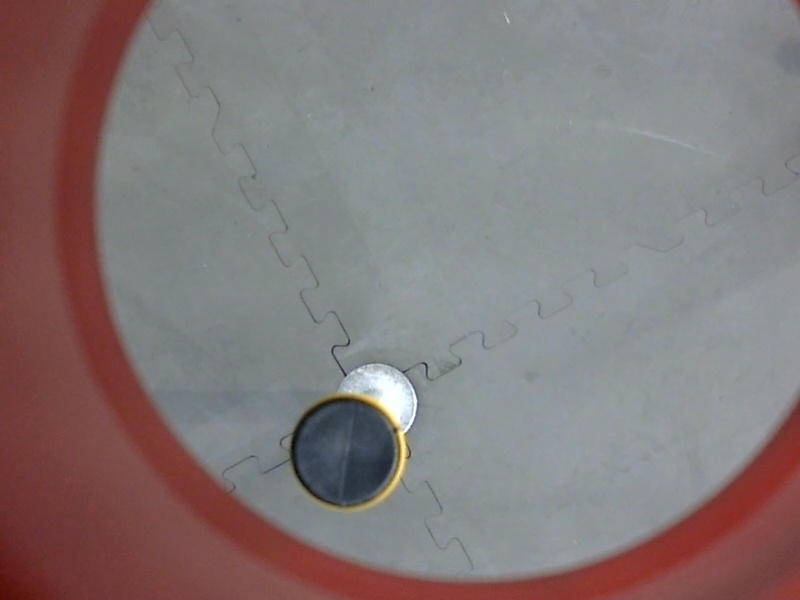tip: (280, 387, 414, 518)
